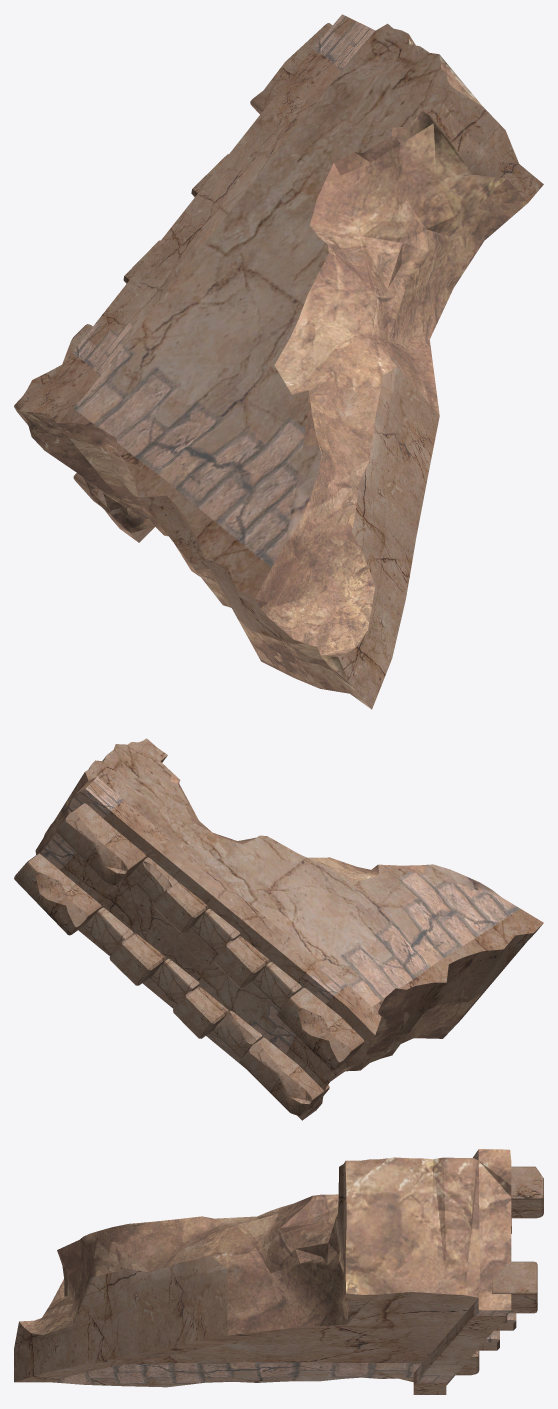
The model's file is s10_pillar.fbx.
The picture shows the model from 3 angles, top to bottom: view 1: azimuth 30°, elevation 25°; view 2: azimuth 150°, elevation 25°; view 3: azimuth 270°, elevation 25°; orthographic projection. The views are drawn at different scales.
Parts seen in each view (by area): view 1: s10_pillar_break3Shape (×2); view 2: s10_pillar_break3Shape (×2); view 3: s10_pillar_break3Shape (×2).
Part boxes in pixels (<box>): s10_pillar_break3Shape (×2): <box>14,14,543,709</box>; s10_pillar_break3Shape (×2): <box>14,738,543,1120</box>; s10_pillar_break3Shape (×2): <box>14,1149,543,1394</box>.
Bounding box in the file's own units: 48.39 × 42.42 × 56.98.
